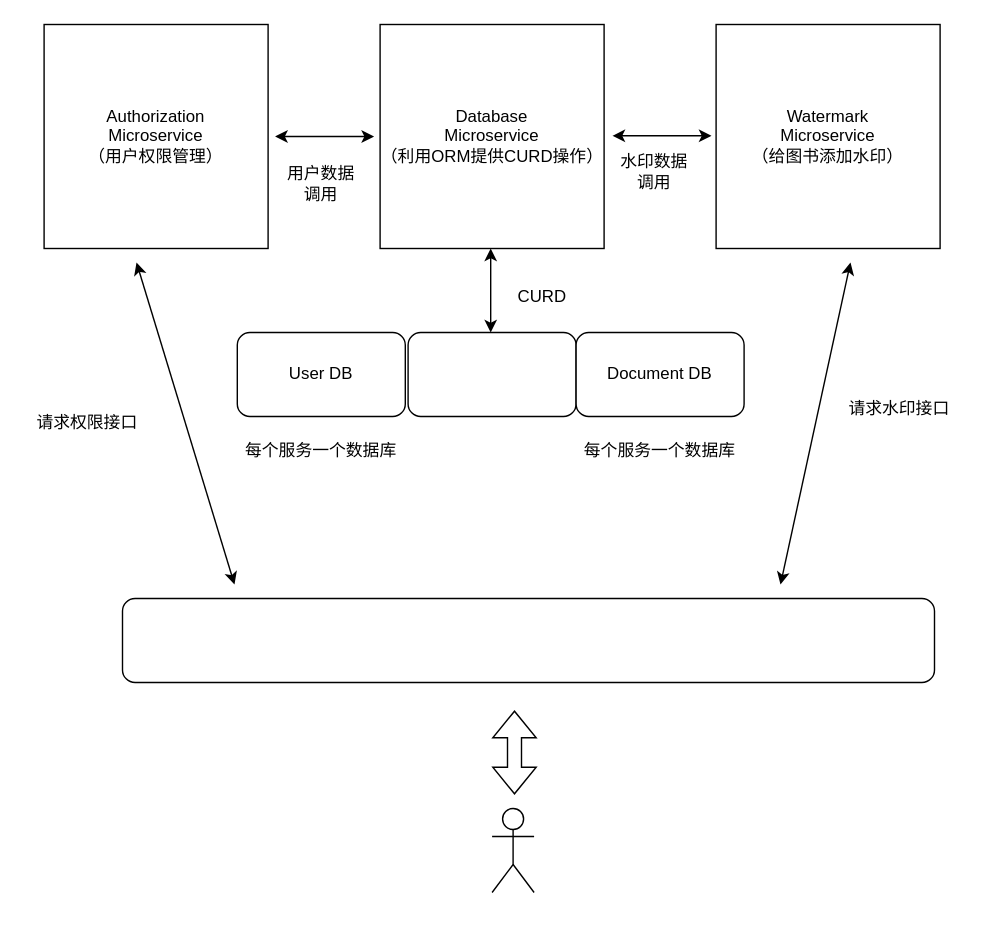
Some shapes in this 986 by 946 pixel diagram are drawn without their labels. Each missing label, with the centre of its shape:
API Gateway （接口网关）: the point at 527,639
PostgresSQL Server: the point at 491,373
用户: the point at 512,849
